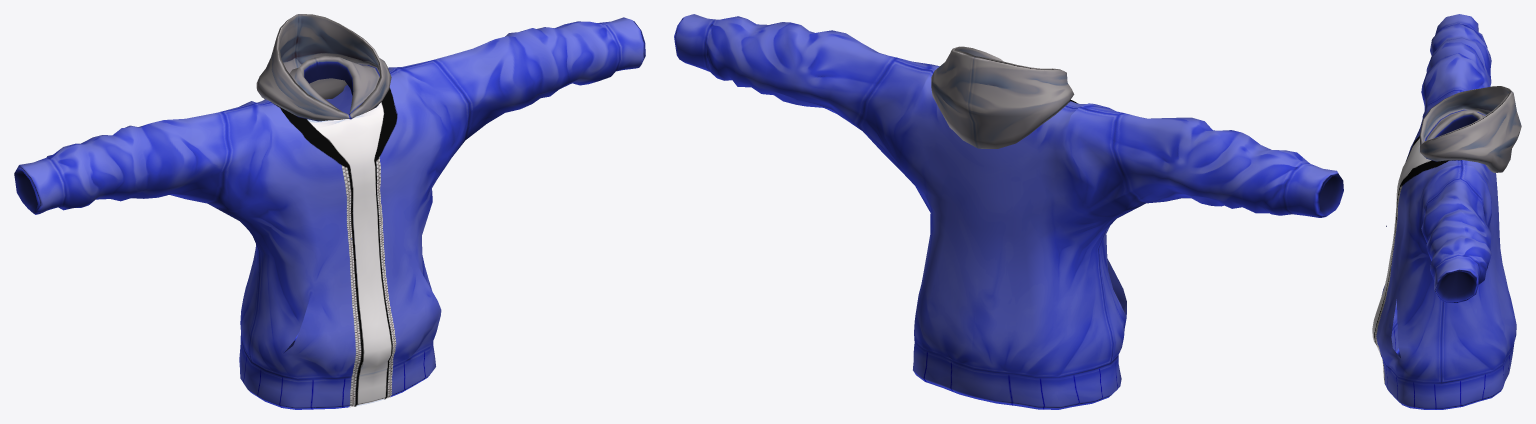
The model's file is hood.fbx.
3 renders of one model, left to right at view 1: azimuth 30°, elevation 25°; view 2: azimuth 150°, elevation 25°; view 3: azimuth 270°, elevation 25°, orthographic. The views are drawn at different scales.
Parts seen in each view (by area): view 1: N00_005_01_Tops_01_CLOTH (Instance); view 2: N00_005_01_Tops_01_CLOTH (Instance); view 3: N00_005_01_Tops_01_CLOTH (Instance).
Part boxes in pixels (<box>): N00_005_01_Tops_01_CLOTH (Instance): <box>14,14,645,409</box>; N00_005_01_Tops_01_CLOTH (Instance): <box>674,14,1343,409</box>; N00_005_01_Tops_01_CLOTH (Instance): <box>1372,14,1521,409</box>.
Size of the model in its own units: 133 by 69.99 by 32.86.
1 material, 1 textured.
